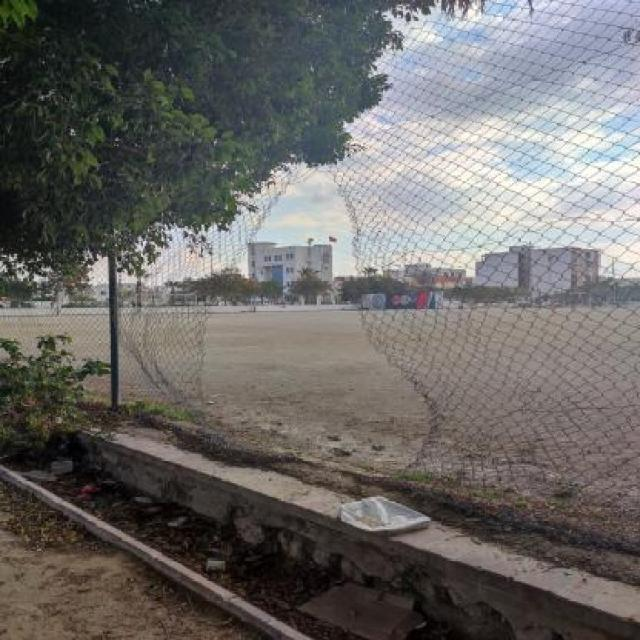fence line: (192, 169, 433, 472)
